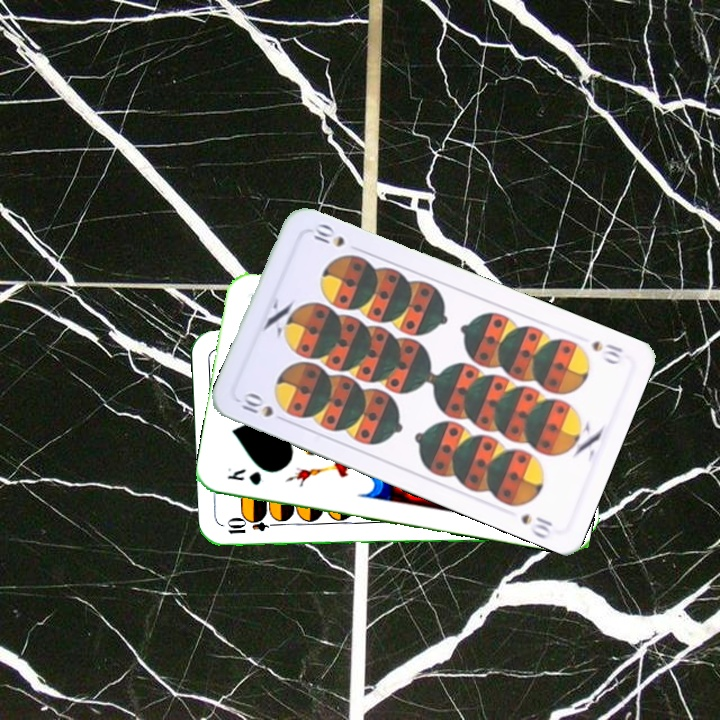E10: (223, 518, 283, 537)
GK: (223, 465, 264, 488)
S10: (237, 388, 291, 425), (587, 336, 626, 367)
